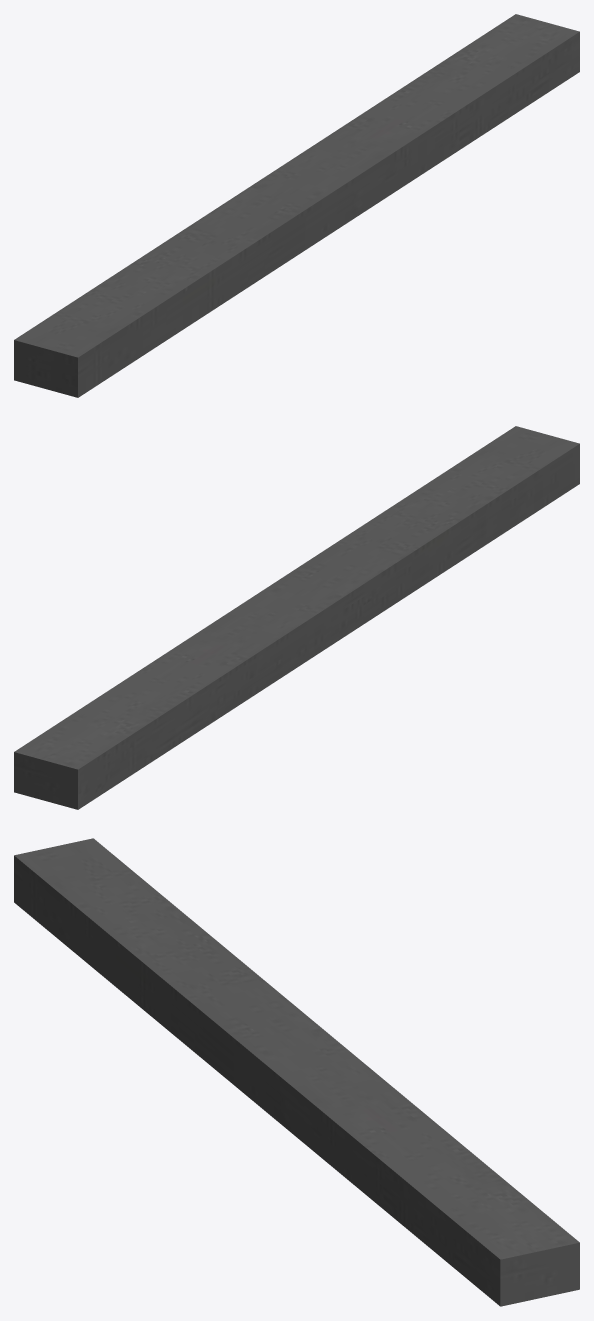
Rendered from frame__center_spine.glb.
3 views of the same model, one above another, from view 1: azimuth 30°, elevation 25°; view 2: azimuth 210°, elevation 25°; view 3: azimuth 270°, elevation 25° (orthographic). The views are drawn at different scales.
Parts seen in each view (by area): view 1: world; view 2: world; view 3: world.
Boxes of the visible parts, x1=… form: world: x1=14, y1=14, x2=579, y2=397; world: x1=14, y1=426, x2=579, y2=809; world: x1=14, y1=838, x2=579, y2=1306.
Bounding box in the file's own units: 0.6149 × 0.032 × 0.349.
1 material, 1 textured.
